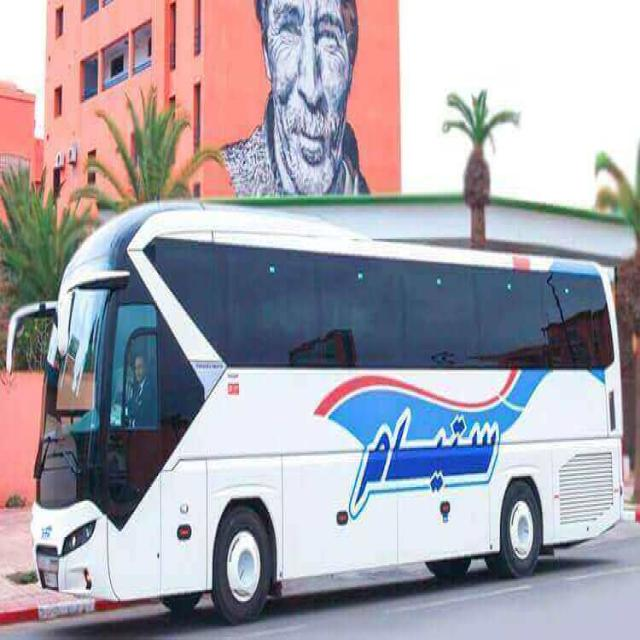Bus: (9, 203, 624, 624)
